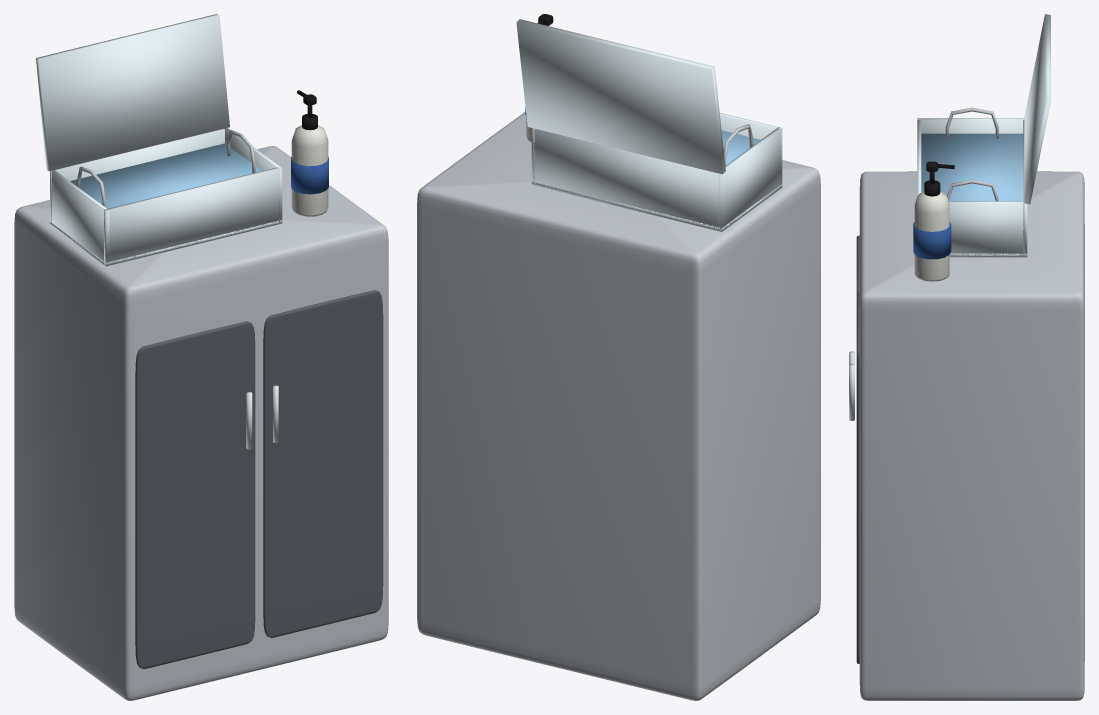
The model's file is sanitizer.glb.
The picture shows the model from 3 angles, left to right: view 1: azimuth 30°, elevation 25°; view 2: azimuth 150°, elevation 25°; view 3: azimuth 270°, elevation 25°; orthographic projection. The views are drawn at different scales.
Parts seen in each view (by area): view 1: Cabinet, Doors, Tub, Disinfectant, Bottle, Label, Handles, Basket; view 2: Cabinet, Tub; view 3: Cabinet, Tub, Disinfectant, Bottle, Doors, Label, Basket, Pump, Handles.
Boxes of the visible parts, box(x1,y1,x2,y2) form: Cabinet: box(14, 146, 388, 700); Doors: box(135, 290, 383, 668); Tub: box(36, 14, 282, 266); Disinfectant: box(70, 143, 261, 208); Bottle: box(291, 125, 328, 216); Label: box(291, 156, 328, 194); Handles: box(246, 385, 278, 449); Basket: box(76, 130, 255, 206); Cabinet: box(417, 112, 820, 700); Tub: box(516, 19, 782, 231); Cabinet: box(859, 171, 1084, 700); Tub: box(917, 14, 1050, 257); Disinfectant: box(921, 133, 1023, 201); Bottle: box(914, 192, 949, 281); Doors: box(856, 235, 859, 663); Label: box(913, 222, 951, 259); Basket: box(945, 107, 998, 201); Pump: box(924, 161, 954, 196); Handles: box(849, 351, 854, 420).
Size of the model in its own units: 0.5998 by 1.25 by 0.4709.
